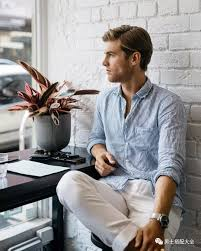S_shirt: (88, 78, 187, 212)
